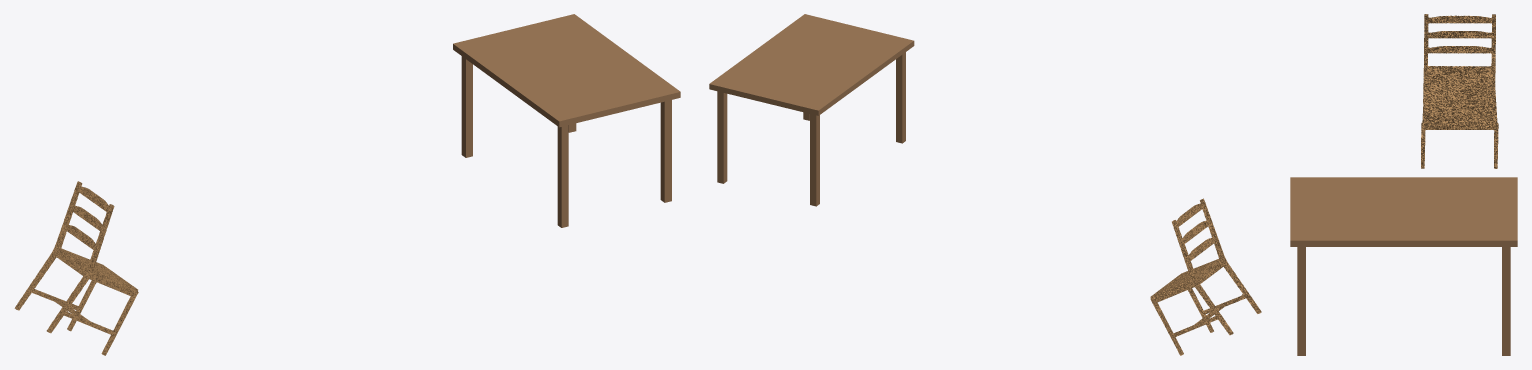
Rendered from h2_10_chair_sit_props.glb.
3 renders of one model, left to right at view 1: azimuth 30°, elevation 25°; view 2: azimuth 150°, elevation 25°; view 3: azimuth 270°, elevation 25°, orthographic. The views are drawn at different scales.
Parts seen in each view (by area): view 1: s000, o00, s001, s003, s002; view 2: s000, o00, s004, s002, s001; view 3: s000, o00, s003, s004.
Part boxes in pixels (x1,y1,x2,y2): s000: (453, 14, 680, 127); o00: (14, 181, 138, 355); s001: (557, 125, 568, 227); s003: (660, 100, 671, 202); s002: (461, 56, 472, 157); s000: (709, 14, 914, 115); o00: (1150, 198, 1261, 355); s004: (717, 91, 727, 183); s002: (810, 114, 819, 206); s001: (896, 52, 905, 143); s000: (1290, 177, 1517, 246); o00: (1421, 14, 1498, 168); s003: (1297, 247, 1305, 355); s004: (1502, 247, 1510, 355).
Size of the model in its own units: 4.04 by 1.24 by 1.3.
